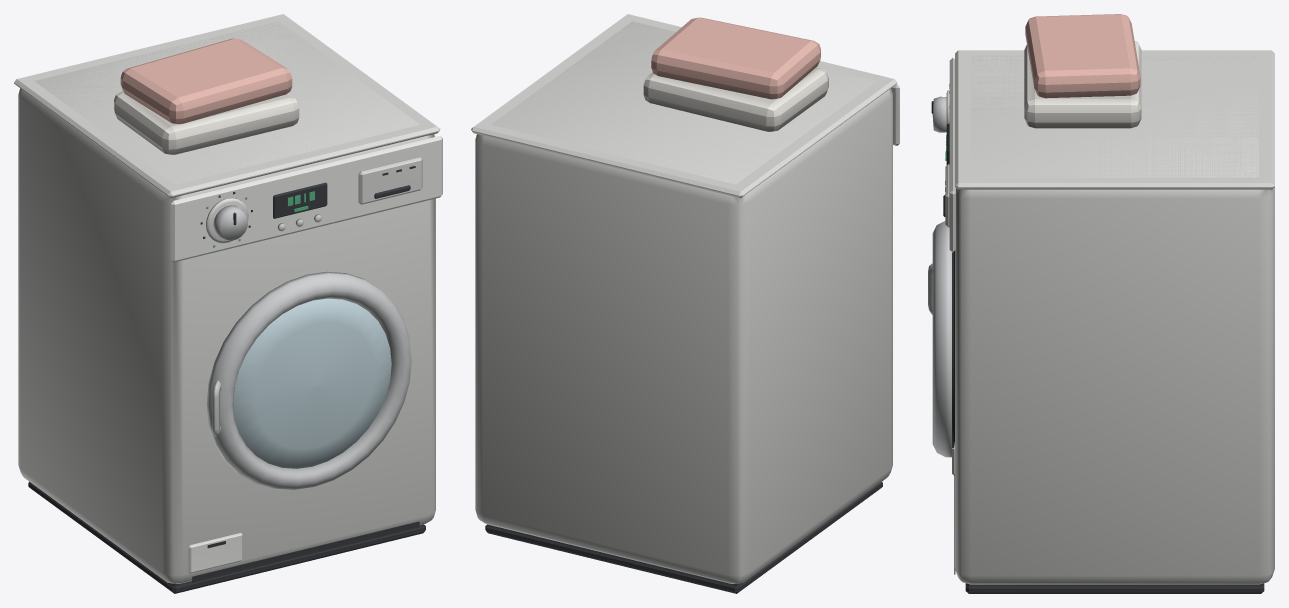
File: laundryWasher.glb
The picture shows the model from 3 angles, left to right: view 1: azimuth 30°, elevation 25°; view 2: azimuth 150°, elevation 25°; view 3: azimuth 270°, elevation 25°; orthographic projection.
Parts seen in each view (by area): view 1: body, door; view 2: body; view 3: body, door.
Boxes of the visible parts, x1,y1,x2,y2 form: body: (14, 14, 442, 593); door: (206, 271, 411, 490); body: (471, 14, 899, 593); body: (931, 14, 1274, 593); door: (928, 221, 951, 457).
Size of the model in its own units: 0.6 by 0.976 by 0.6507.
